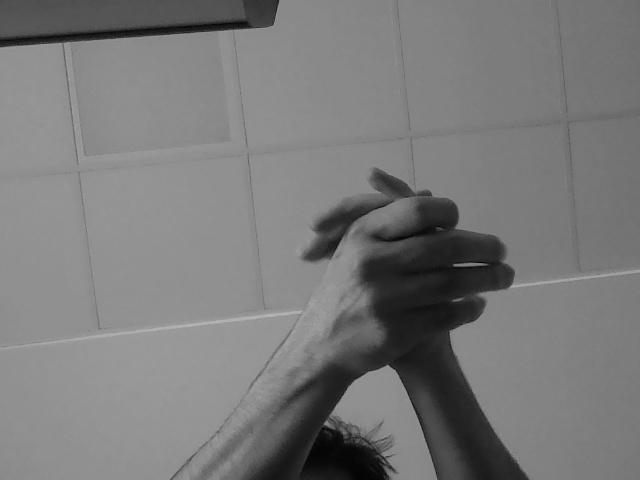friend: (273, 151, 526, 401)
